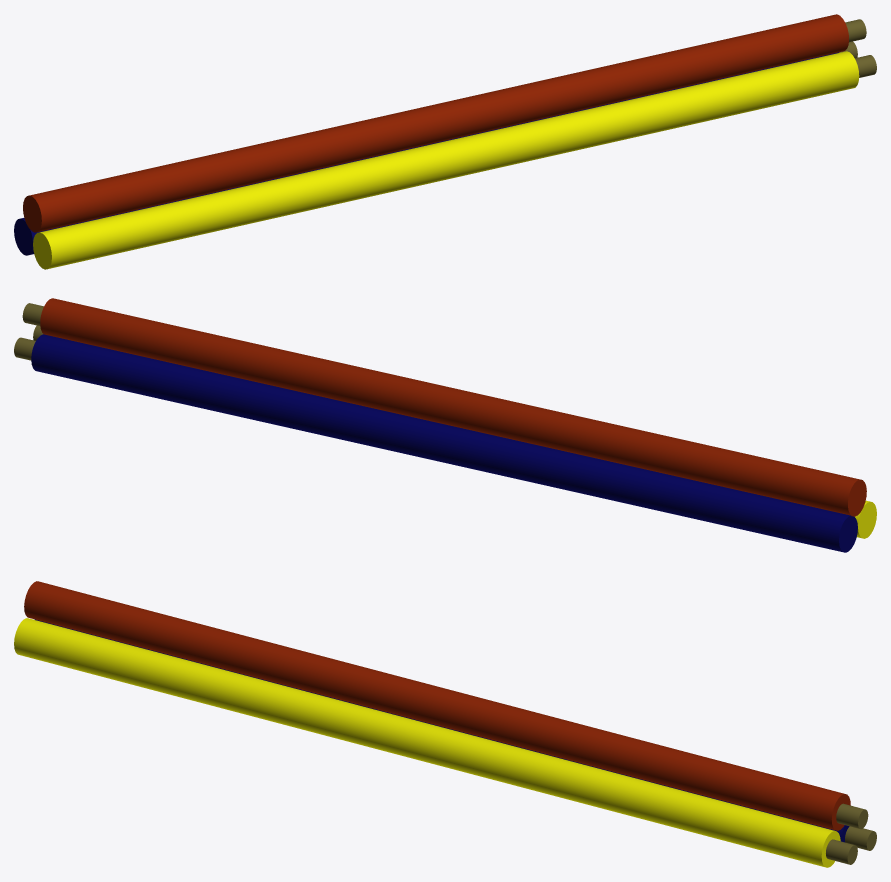
File: wiresfbx.fbx
3 renders of one model, top to bottom at view 1: azimuth 30°, elevation 25°; view 2: azimuth 150°, elevation 25°; view 3: azimuth 330°, elevation 25°, orthographic.
Parts seen in each view (by area): view 1: pCylinder1, pCylinder3, pCylinder2; view 2: pCylinder2, pCylinder3, pCylinder1; view 3: pCylinder3, pCylinder1, pCylinder2, pCylinder6, pCylinder4, pCylinder5.
Boxes of the visible parts, <box> form: pCylinder1: <box>33,51,859,269</box>; pCylinder3: <box>23,14,848,232</box>; pCylinder2: <box>14,52,838,255</box>; pCylinder2: <box>31,334,857,552</box>; pCylinder3: <box>40,298,866,516</box>; pCylinder1: <box>855,500,876,538</box>; pCylinder3: <box>24,581,850,830</box>; pCylinder1: <box>14,618,840,867</box>; pCylinder2: <box>34,619,849,842</box>; pCylinder6: <box>826,839,857,864</box>; pCylinder4: <box>836,803,868,829</box>; pCylinder5: <box>845,826,876,850</box>.
Bounding box in the file's own units: 12.16 × 1.12 × 0.9656.
